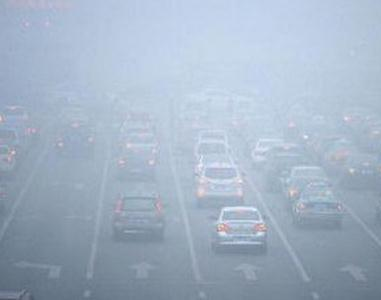car: (110, 188, 166, 241), (207, 206, 268, 254), (193, 162, 248, 203), (290, 187, 344, 227), (337, 152, 379, 189), (281, 165, 329, 197), (195, 153, 240, 186), (118, 147, 156, 181), (125, 132, 162, 165), (195, 139, 233, 168), (251, 138, 287, 168), (1, 142, 19, 177)
